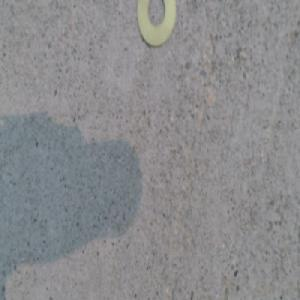Washer: (136, 0, 177, 48)
